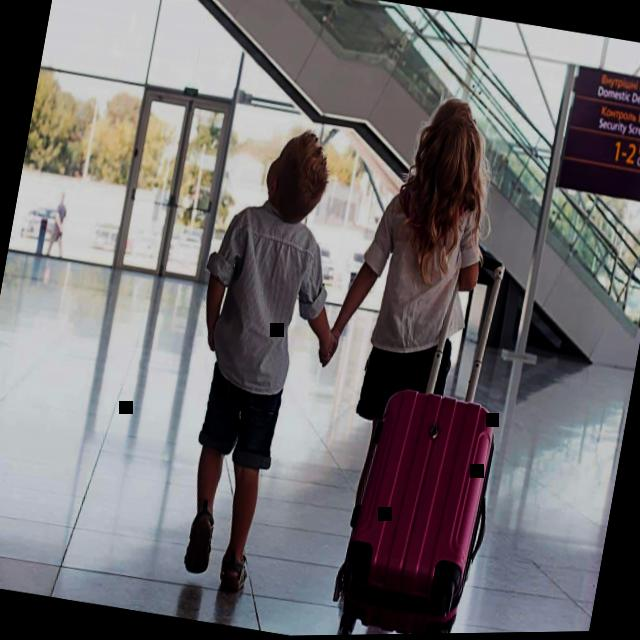luggage: (328, 377, 505, 636)
